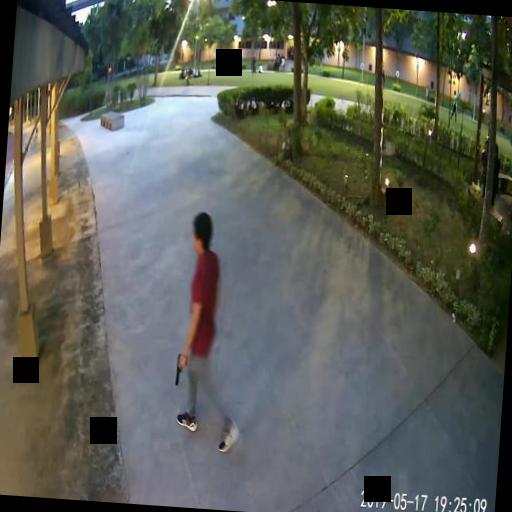Handgun: (173, 350, 187, 386)
